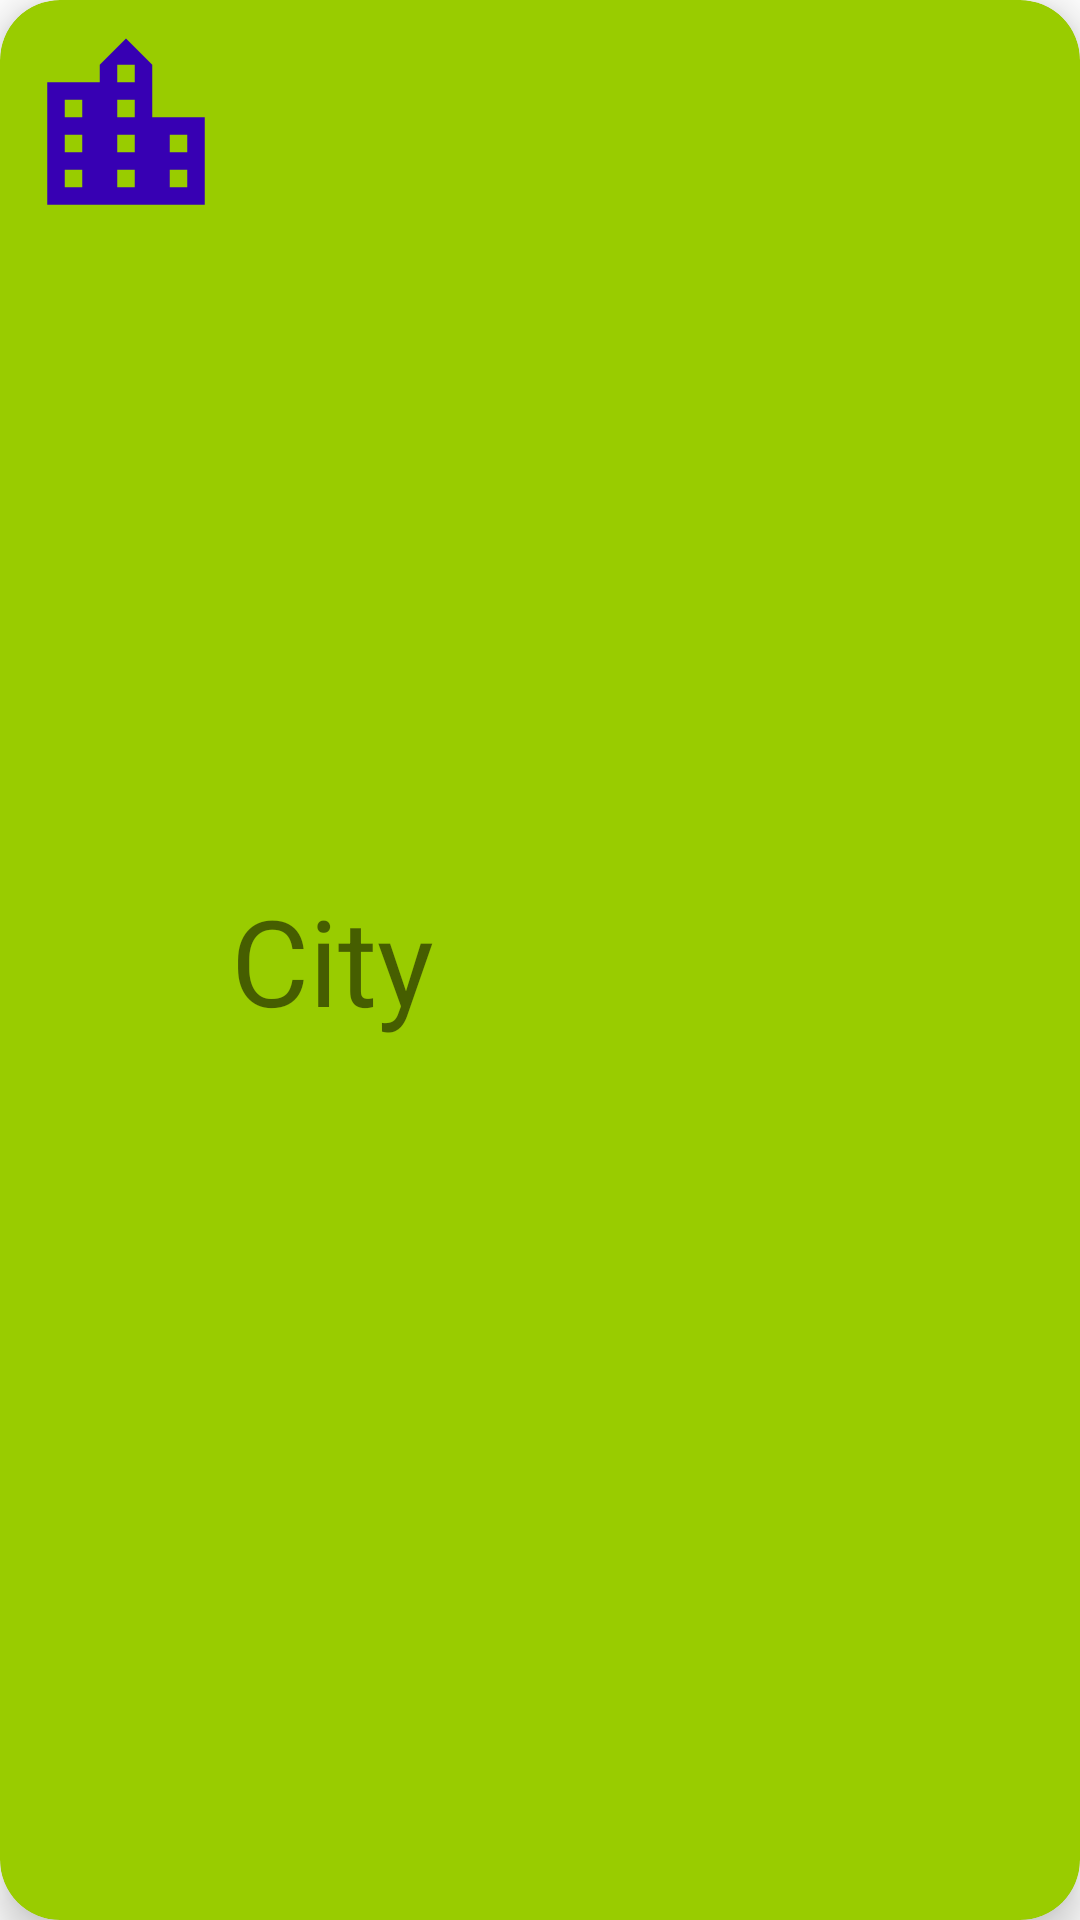

Where to tap for icons on this 1080x1920 app screen, as [x,y]:
forecast city: [126,121]
